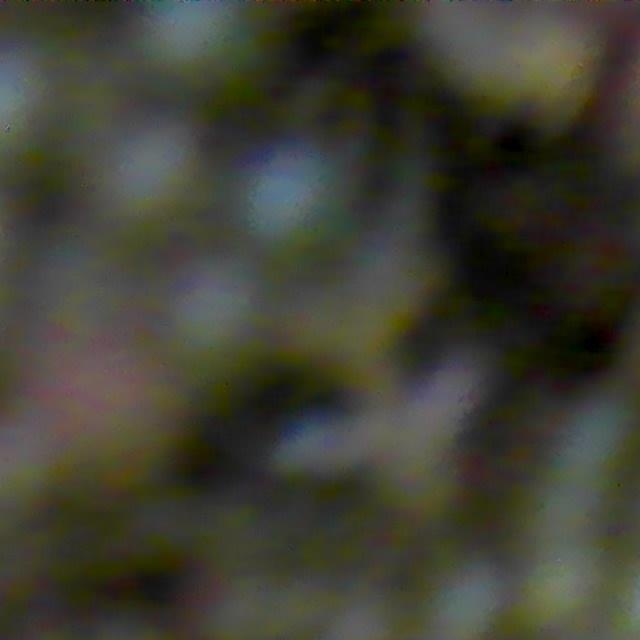SeaGrape: (34, 324, 193, 492), (88, 113, 202, 249), (242, 145, 363, 266), (152, 274, 270, 388), (240, 141, 344, 248), (134, 0, 240, 77), (519, 545, 605, 633)
